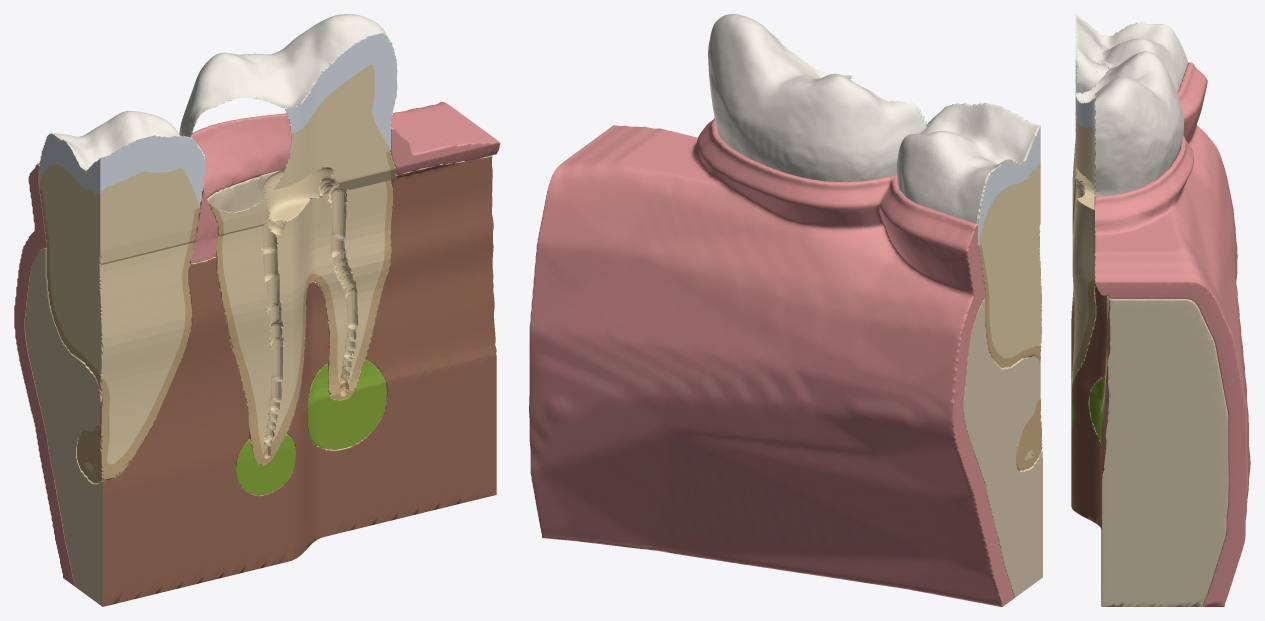
Rendered from rct-during.glb.
3 renders of one model, left to right at view 1: azimuth 30°, elevation 25°; view 2: azimuth 150°, elevation 25°; view 3: azimuth 270°, elevation 25°, orthographic. The views are drawn at different scales.
Parts seen in each view (by area): view 1: bone_1, first molar teeth_8, teeth teeth_2, bone, gum, first molar teeth_5, abscess, first molar teeth_7, teeth teeth_3, first molar teeth_10, teeth teeth_1, teeth teeth_4 (+2 smaller); view 2: gum, first molar teeth_5, bone, teeth teeth_4, teeth teeth_2, teeth teeth_3, teeth teeth_1, teeth teeth; view 3: bone, gum, first molar teeth_5, bone_1, teeth teeth_4, first molar teeth_8, first molar teeth_7, abscess, first molar teeth_10.
Part boxes in pixels (box(x1,y1,x2,y2)): bone_1: box(102, 156, 496, 606); first molar teeth_8: box(218, 64, 390, 453); teeth teeth_2: box(40, 162, 200, 474); bone: box(24, 155, 493, 606); gum: box(14, 102, 499, 586); first molar teeth_5: box(179, 14, 397, 204); abscess: box(236, 359, 386, 495); first molar teeth_7: box(210, 151, 396, 465); teeth teeth_3: box(39, 135, 205, 206); first molar teeth_10: box(284, 33, 397, 149); teeth teeth_1: box(40, 189, 200, 480); teeth teeth_4: box(38, 110, 204, 187); gum: box(529, 118, 1014, 606); first molar teeth_5: box(708, 14, 929, 181); bone: box(963, 298, 1042, 597); teeth teeth_4: box(896, 103, 1040, 245); teeth teeth_2: box(979, 163, 1042, 460); teeth teeth_3: box(950, 102, 1040, 238); teeth teeth_1: box(980, 244, 1042, 467); teeth teeth: box(978, 245, 1042, 470); bone: box(1088, 298, 1228, 606); gum: box(1076, 62, 1250, 606); first molar teeth_5: box(1076, 51, 1183, 196); bone_1: box(1071, 178, 1110, 606); teeth teeth_4: box(1075, 14, 1187, 109); first molar teeth_8: box(1071, 121, 1108, 404); first molar teeth_7: box(1071, 132, 1109, 415); abscess: box(1071, 370, 1105, 445); first molar teeth_10: box(1075, 93, 1095, 196).
Size of the model in its own units: 23.45 by 27.65 by 9.67.
